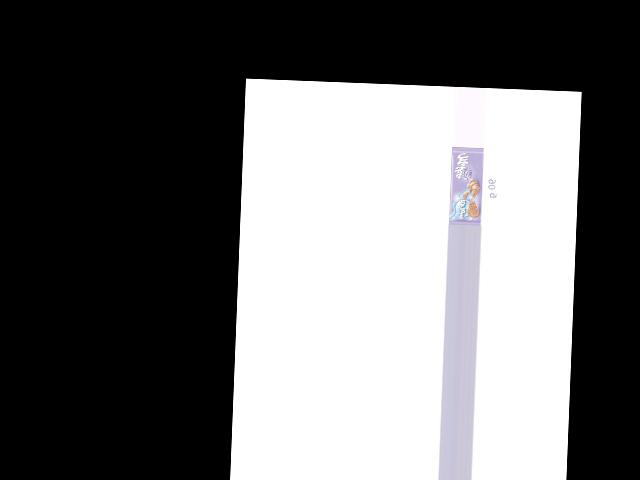chocolate: (448, 148, 483, 226)
